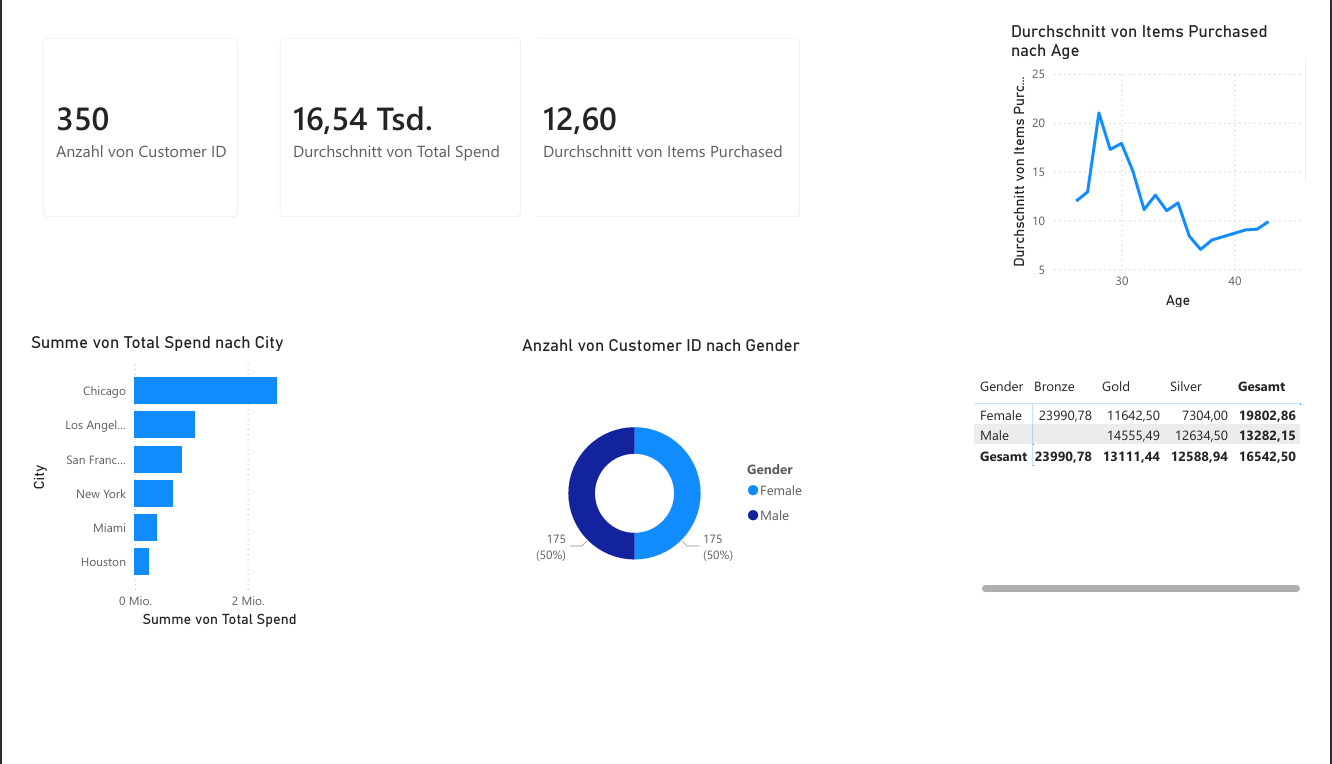

Layout of this report page (visuals, bound fields, positions):
{"tool":"powerbi","page":{"name":"Seite 1","canvas":[1280,720],"ordinal":0},"visuals":[{"type":"cardVisual","fields":{"Data":["Avg(E-commerce Customer Behavior - Sheet1.Items Purchased)"]},"box":[487.4,0,304.2,214],"z":2},{"type":"cardVisual","fields":{"Data":["Count(E-commerce Customer Behavior - Sheet1.Customer ID)"]},"box":[0,0,229.3,214],"z":3},{"type":"cardVisual","fields":{"Data":["Avg(E-commerce Customer Behavior - Sheet1.Total Spend)"]},"box":[237,0,275.4,214],"z":4},{"type":"barChart","fields":{"Category":["E-commerce Customer Behavior - Sheet1.City"],"Y":["Sum(E-commerce Customer Behavior - Sheet1.Total Spend)"]},"box":[0,311,300,300],"z":5},{"type":"donutChart","fields":{"Category":["E-commerce Customer Behavior - Sheet1.Gender"],"Y":["Count(E-commerce Customer Behavior - Sheet1.Customer ID)"]},"box":[491.3,313.7,300.5,298.6],"z":6},{"type":"lineChart","fields":{"Category":["E-commerce Customer Behavior - Sheet1.Age"],"Y":["Avg(E-commerce Customer Behavior - Sheet1.Items Purchased)"]},"box":[979.7,0,300.3,290.7],"z":7},{"type":"pivotTable","fields":{"Rows":["E-commerce Customer Behavior - Sheet1.Gender"],"Columns":["E-commerce Customer Behavior - Sheet1.Membership Type"],"Values":["Avg(E-commerce Customer Behavior - Sheet1.Total Spend)"]},"box":[944.2,350.2,335.8,226.4],"z":8}]}

Visuals, with their boxes in screenshot pixels (x1, y1, x2, y2), scaled from the page's 1280x720 canvas onto the 1332x764 screenshot:
cardVisual - Avg(E-commerce Customer Behavior - Sheet1.Items Purchased): box=[507, 0, 824, 227]
cardVisual - Count(E-commerce Customer Behavior - Sheet1.Customer ID): box=[0, 0, 239, 227]
cardVisual - Avg(E-commerce Customer Behavior - Sheet1.Total Spend): box=[247, 0, 533, 227]
barChart - E-commerce Customer Behavior - Sheet1.City x Sum(E-commerce Customer Behavior - Sheet1.Total Spend): box=[0, 330, 312, 648]
donutChart - E-commerce Customer Behavior - Sheet1.Gender x Count(E-commerce Customer Behavior - Sheet1.Customer ID): box=[511, 333, 824, 650]
lineChart - E-commerce Customer Behavior - Sheet1.Age x Avg(E-commerce Customer Behavior - Sheet1.Items Purchased): box=[1020, 0, 1331, 308]
pivotTable - E-commerce Customer Behavior - Sheet1.Gender x E-commerce Customer Behavior - Sheet1.Membership Type: box=[983, 372, 1331, 612]
